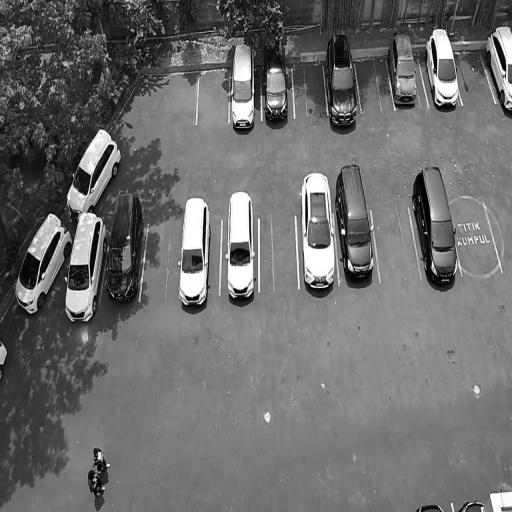Car: (9, 199, 75, 321), (407, 160, 465, 293), (59, 118, 125, 221), (60, 211, 110, 325), (298, 168, 340, 292), (335, 159, 376, 282), (224, 181, 259, 304), (178, 190, 212, 314), (106, 187, 142, 303), (420, 23, 462, 115), (323, 28, 361, 128), (479, 24, 512, 129), (383, 26, 422, 112), (262, 30, 290, 130), (230, 40, 256, 133), (456, 498, 488, 512), (414, 502, 447, 512)
Space Available: (451, 205, 503, 277), (372, 208, 421, 281), (140, 219, 183, 302), (260, 216, 300, 290), (453, 46, 495, 106), (354, 57, 395, 112), (484, 199, 512, 272), (196, 67, 231, 124), (292, 62, 327, 115)
